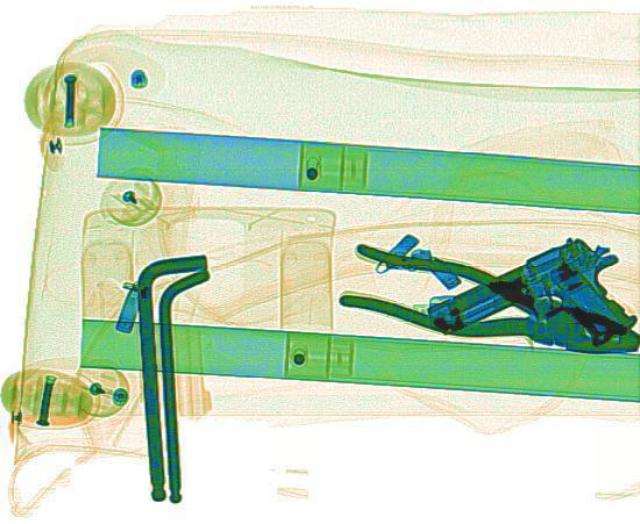Gun: (420, 235, 638, 387)
Pliers: (328, 238, 638, 368)
